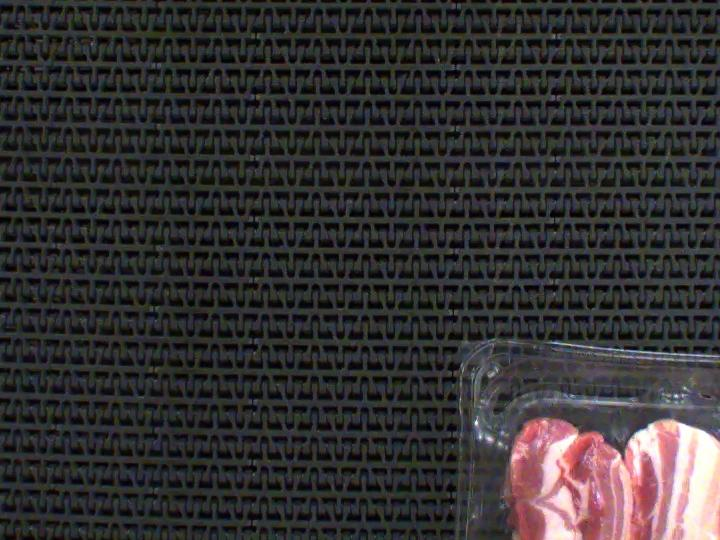unsealed: (473, 345, 720, 524)
